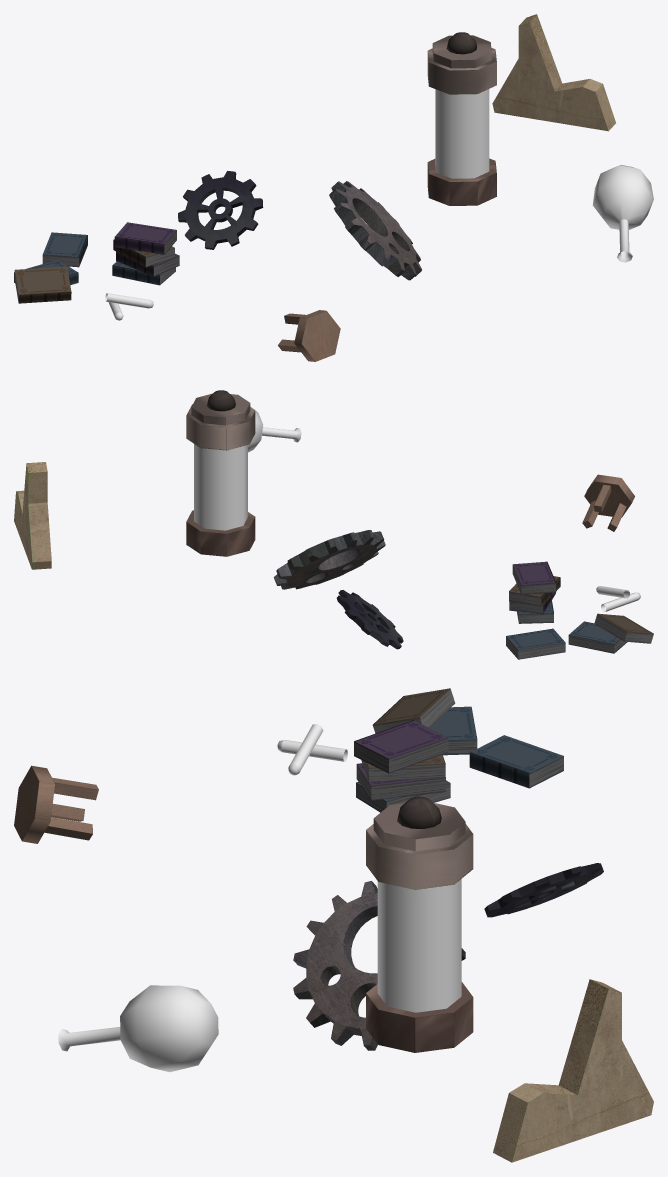
3 views of the same model, one above another, from view 1: azimuth 30°, elevation 25°; view 2: azimuth 150°, elevation 25°; view 3: azimuth 270°, elevation 25° (orthographic). The views are drawn at different scales.
Parts seen in each view (by area): view 1: Object029, Cylinder001, Object028, Object030, Line012, Cylinder003, Object024, Object025, Cylinder_off, Box052, Object033, Sphere003; view 2: Cylinder001, Object028, Object029, Cylinder003, Object025, Cylinder_off, Object030, Object024, Box052, Object033, Object034, Line012 (+1 smaller); view 3: Object029, Cylinder001, Object028, Line012, Cylinder003, Object025, Box052, Cylinder_off, Object024, Object030, Object033, Object034 (+3 smaller).
Boxes of the visible parts, left/top/right/bottom form: Object029: left=492, top=14, right=615, bottom=131; Cylinder001: left=435, top=89, right=489, bottom=178; Object028: left=329, top=181, right=421, bottom=280; Object030: left=178, top=171, right=263, bottom=249; Line012: left=592, top=165, right=653, bottom=262; Cylinder003: left=427, top=35, right=496, bottom=94; Object024: left=14, top=239, right=174, bottom=303; Object025: left=14, top=232, right=175, bottom=285; Cylinder_off: left=427, top=158, right=496, bottom=205; Box052: left=114, top=222, right=179, bottom=276; Object033: left=294, top=310, right=340, bottom=361; Sphere003: left=446, top=32, right=476, bottom=54; Cylinder001: left=194, top=444, right=247, bottom=530; Object028: left=273, top=530, right=385, bottom=589; Object029: left=14, top=462, right=51, bottom=569; Cylinder003: left=186, top=393, right=255, bottom=450; Object025: left=506, top=600, right=627, bottom=659; Cylinder_off: left=186, top=510, right=255, bottom=556; Object030: left=336, top=590, right=403, bottom=649; Object024: left=509, top=576, right=653, bottom=643; Box052: left=509, top=561, right=556, bottom=614; Object033: left=584, top=474, right=634, bottom=517; Object034: left=582, top=484, right=626, bottom=531; Line012: left=248, top=406, right=301, bottom=452; Object029: left=493, top=979, right=653, bottom=1162; Cylinder001: left=377, top=879, right=461, bottom=1012; Object028: left=293, top=881, right=465, bottom=1050; Line012: left=58, top=985, right=218, bottom=1072; Cylinder003: left=366, top=802, right=473, bottom=889; Object025: left=356, top=706, right=563, bottom=812; Box052: left=354, top=720, right=448, bottom=800; Cylinder_off: left=366, top=982, right=473, bottom=1052; Object024: left=361, top=688, right=455, bottom=781; Object030: left=484, top=863, right=603, bottom=917; Object033: left=14, top=765, right=54, bottom=843; Object034: left=44, top=777, right=98, bottom=840.
Bounding box in the file's own units: 3267 × 1008 × 1951.
